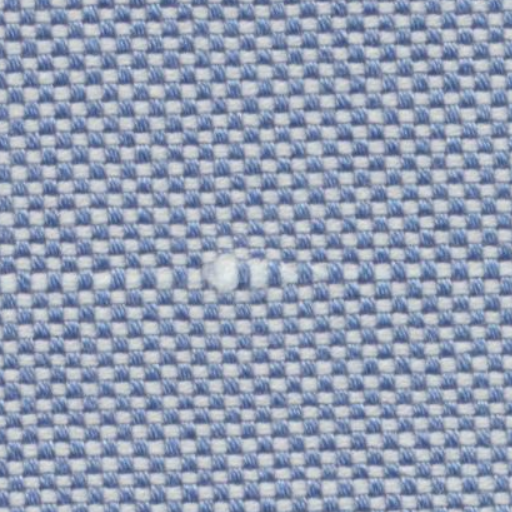DaiSha: (5, 246, 490, 298)
